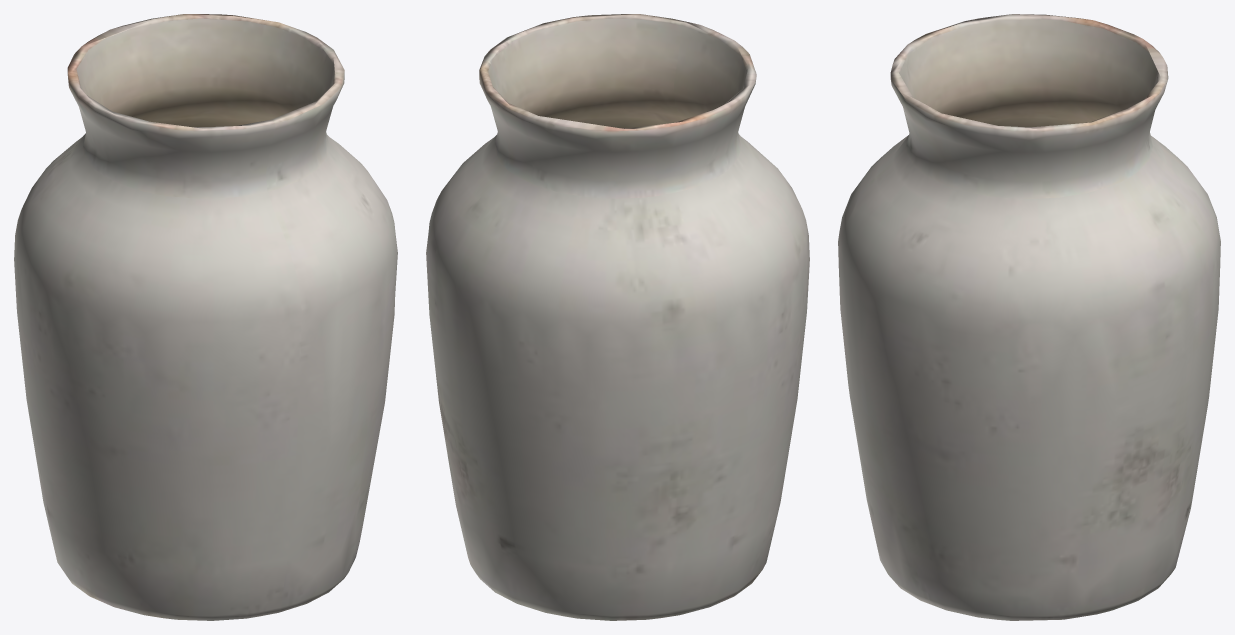
3 renders of one model, left to right at view 1: azimuth 30°, elevation 25°; view 2: azimuth 150°, elevation 25°; view 3: azimuth 270°, elevation 25°, orthographic.
Visible parts, largest first — view 1: ceramic_vase_02; view 2: ceramic_vase_02; view 3: ceramic_vase_02.
Boxes of the visible parts, <box> form: ceramic_vase_02: <box>14,14,397,620</box>; ceramic_vase_02: <box>426,14,809,620</box>; ceramic_vase_02: <box>838,14,1220,620</box>.
Size of the model in its own units: 0.218 by 0.3091 by 0.2176.
Materials: 1 (1 with a texture image).
